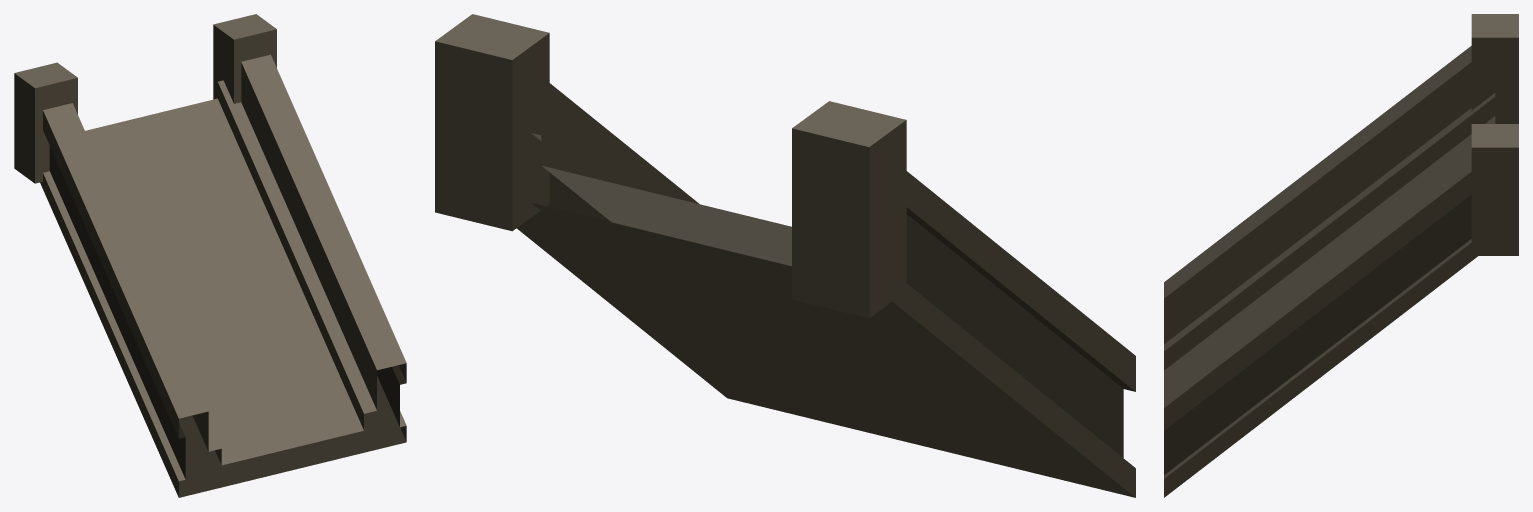
The model's file is SF_Bld_Undead_Castle_Bridge_02.fbx.
3 views of the same model, side by side, from view 1: azimuth 30°, elevation 25°; view 2: azimuth 150°, elevation 25°; view 3: azimuth 270°, elevation 25° (orthographic). The views are drawn at different scales.
Parts seen in each view (by area): view 1: SF_Bld_Undead_Castle_Bridge_02; view 2: SF_Bld_Undead_Castle_Bridge_02; view 3: SF_Bld_Undead_Castle_Bridge_02.
Boxes of the visible parts, left/top/right/bottom form: SF_Bld_Undead_Castle_Bridge_02: left=14, top=14, right=406, bottom=497; SF_Bld_Undead_Castle_Bridge_02: left=435, top=14, right=1135, bottom=497; SF_Bld_Undead_Castle_Bridge_02: left=1164, top=14, right=1518, bottom=497.
Size of the model in its own units: 6.72 by 8.28 by 7.53.
